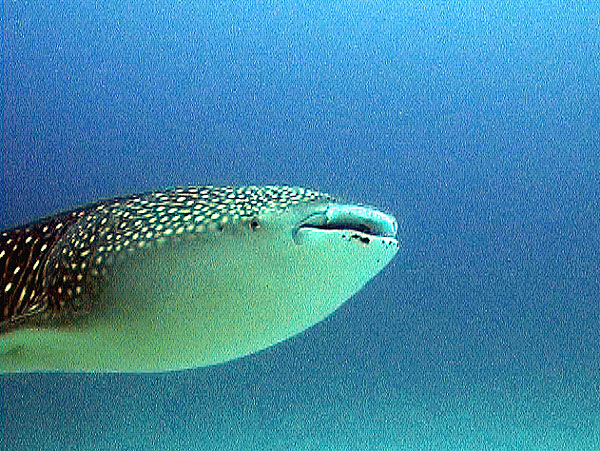Rhincodon_typusw: (1, 156, 424, 392)
